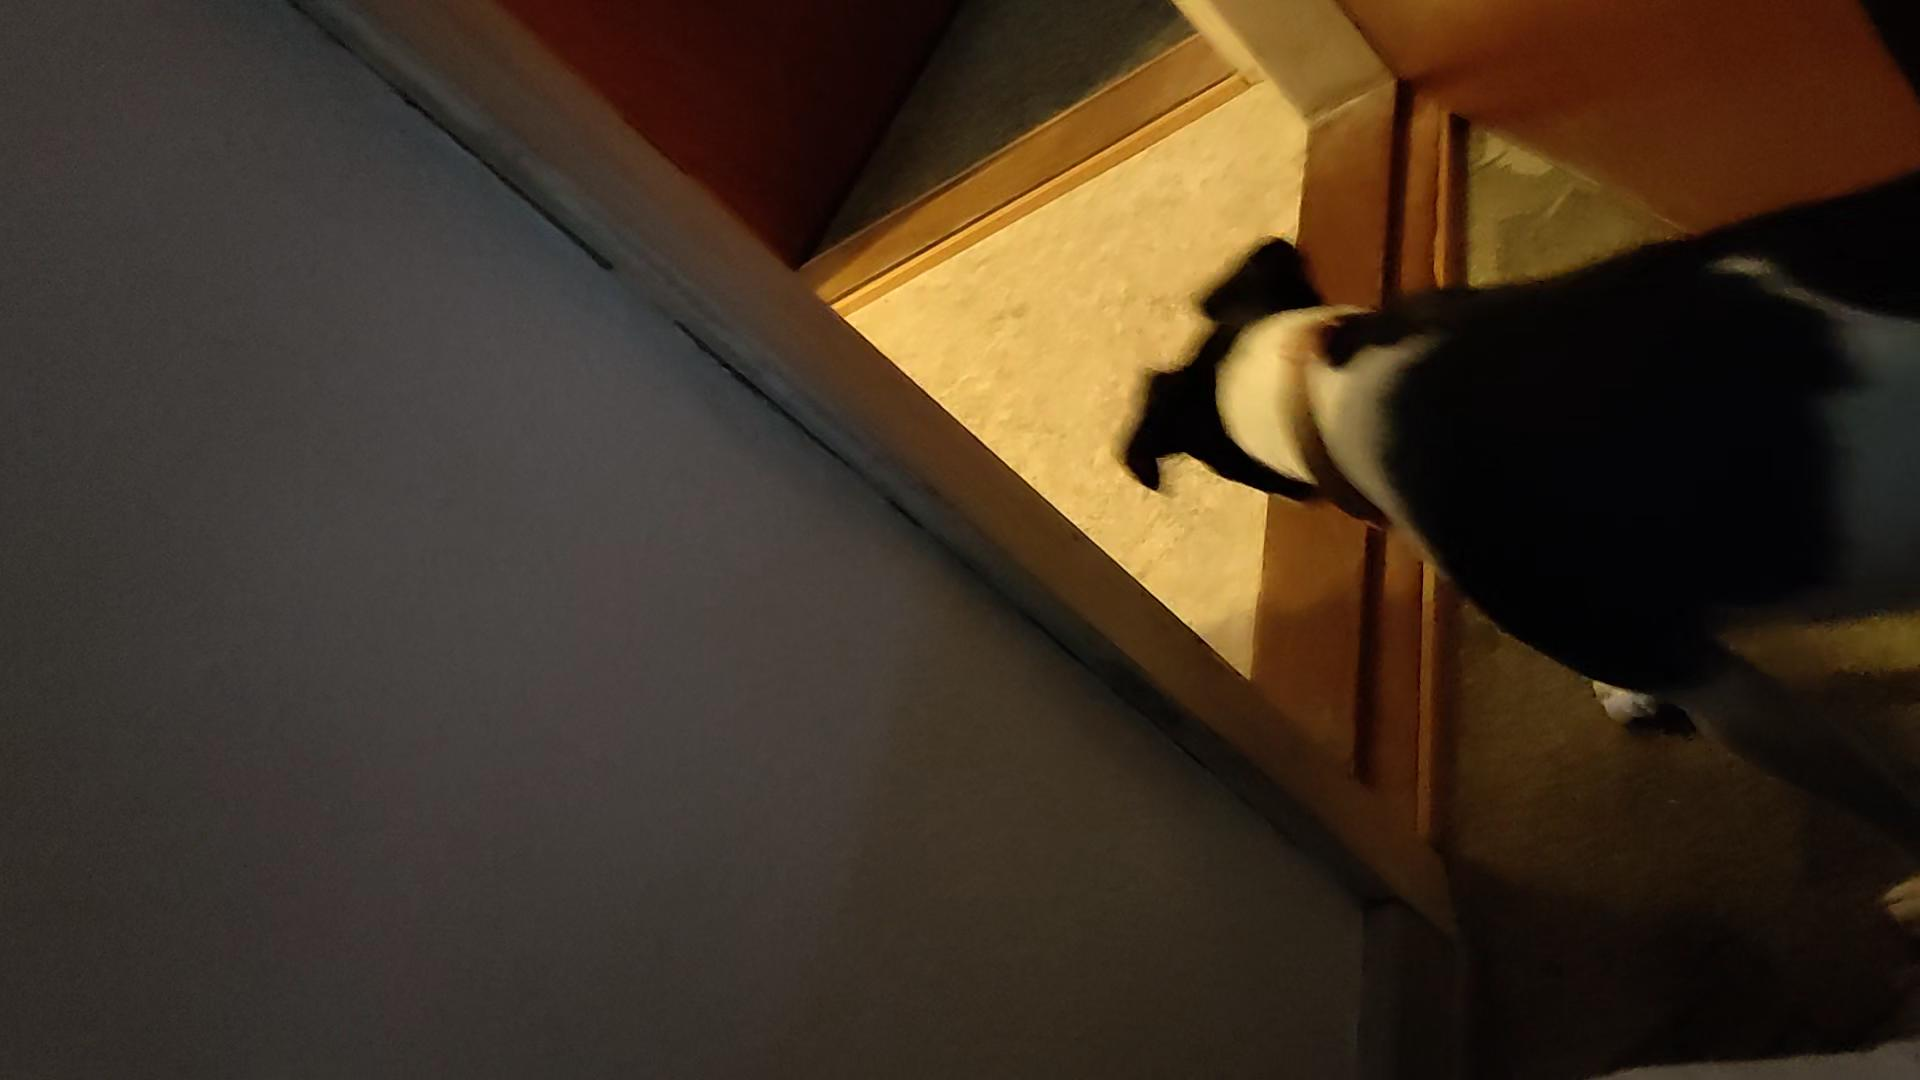Dog: (1110, 146, 1919, 952)
